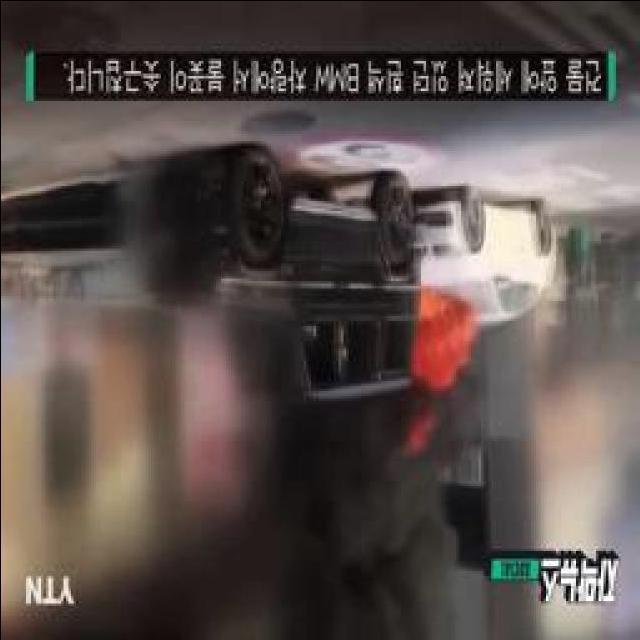Fire: (420, 288, 460, 352)
